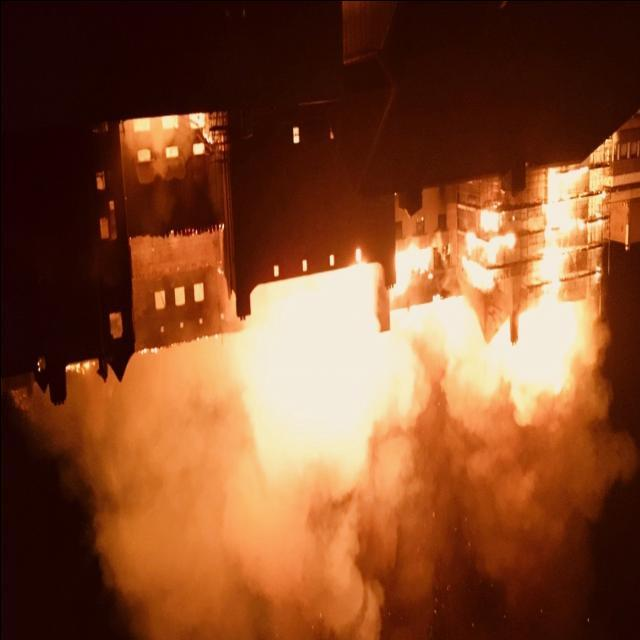Fire: (393, 184, 598, 418), (252, 278, 378, 434), (130, 110, 208, 166)
